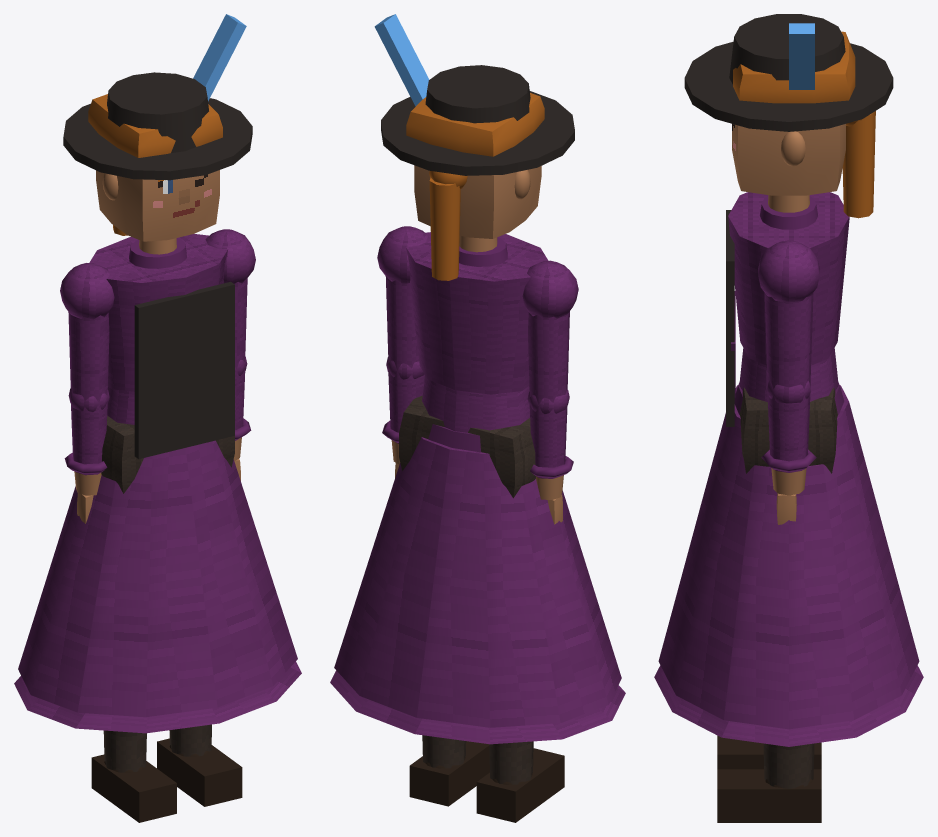
File: comerciante.glb
3 views of the same model, side by side, from view 1: azimuth 30°, elevation 25°; view 2: azimuth 150°, elevation 25°; view 3: azimuth 270°, elevation 25° (orthographic). The views are drawn at different scales.
Visible parts, largest first — view 1: comerciante, object 33, object 27, object 34, object 5, object 10, object 13, object 30, object 12, object 35, object 15, object 19 (+5 smaller); view 2: comerciante, object 33, object 34, object 27, object 30, object 5, object 13, object 10, object 32, object 12, object 20, object 35 (+7 smaller); view 3: comerciante, object 33, object 27, object 10, object 34, object 20, object 30, object 19, object 32, object 22, object 8, object 35 (+7 smaller).
Part boxes in pixels (x1,y1,x2,y2): comerciante: (14, 234, 301, 733); object 33: (63, 98, 252, 180); object 27: (96, 170, 219, 241); object 34: (107, 72, 208, 152); object 5: (91, 754, 176, 822); object 10: (157, 738, 242, 806); object 13: (68, 312, 109, 402); object 30: (88, 94, 222, 157); object 12: (60, 263, 114, 319); object 35: (193, 14, 246, 101); object 15: (71, 402, 107, 475); object 19: (205, 229, 255, 283); comerciante: (330, 232, 625, 744); object 33: (381, 91, 574, 175); object 34: (425, 65, 530, 123); object 27: (414, 165, 541, 238); object 30: (406, 93, 544, 156); object 5: (476, 748, 564, 822); object 13: (528, 311, 569, 404); object 10: (409, 741, 489, 806); object 32: (429, 178, 460, 280); object 12: (522, 260, 578, 318); object 20: (385, 276, 418, 370); object 35: (374, 14, 429, 106); comerciante: (654, 192, 923, 746); object 33: (684, 41, 893, 131); object 27: (732, 124, 845, 195); object 10: (717, 769, 821, 822); object 34: (729, 14, 845, 84); object 20: (764, 293, 813, 388); object 30: (733, 31, 855, 103); object 19: (758, 240, 819, 302); object 32: (842, 111, 875, 218); object 22: (767, 390, 810, 472); object 8: (763, 743, 814, 788); object 35: (789, 23, 814, 89).
Bounding box in the file's own units: 0.7617 × 2.07 × 0.6214.
13 materials, 4 textured.
